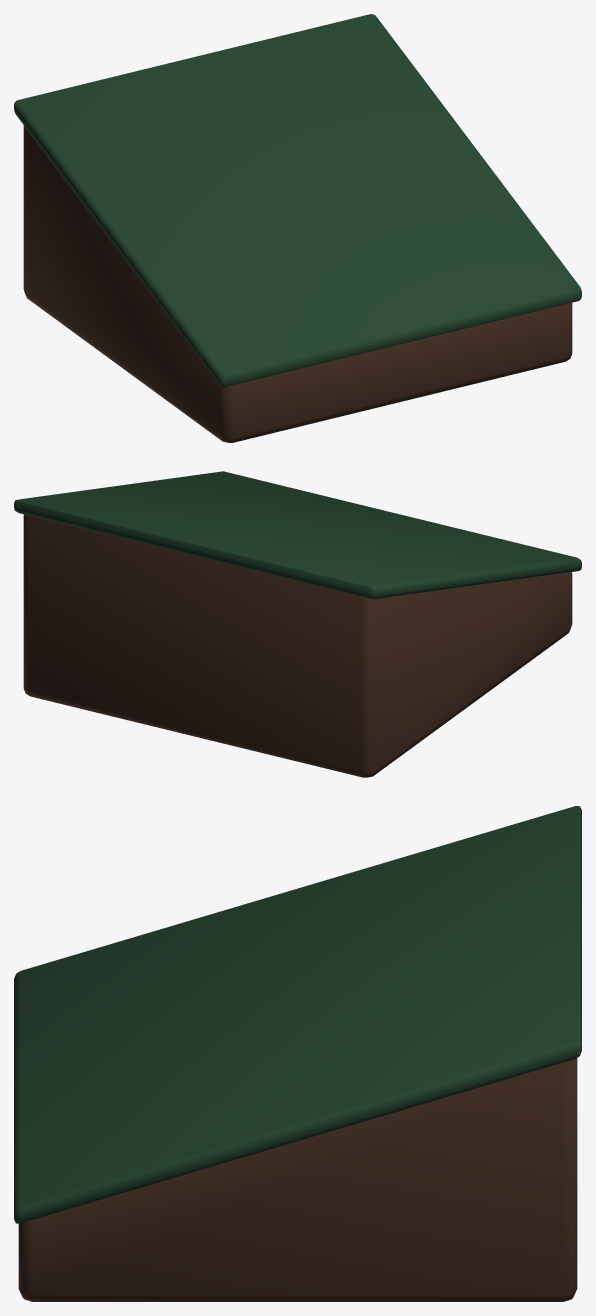
File: SueloRampa.fbx
The picture shows the model from 3 angles, top to bottom: view 1: azimuth 30°, elevation 25°; view 2: azimuth 150°, elevation 25°; view 3: azimuth 270°, elevation 25°; orthographic projection. The views are drawn at different scales.
Visible parts, largest first — view 1: SueloRampa_Pasto, SueloRampa_Tierra; view 2: SueloRampa_Tierra, SueloRampa_Pasto; view 3: SueloRampa_Pasto, SueloRampa_Tierra.
Boxes of the visible parts, bbox=[...] form: SueloRampa_Pasto: bbox=[14, 14, 581, 387]; SueloRampa_Tierra: bbox=[23, 125, 572, 442]; SueloRampa_Tierra: bbox=[23, 514, 572, 777]; SueloRampa_Pasto: bbox=[14, 471, 581, 599]; SueloRampa_Pasto: bbox=[14, 806, 581, 1223]; SueloRampa_Tierra: bbox=[18, 1058, 577, 1301].
Bounding box in the file's own units: 12.2 × 6.35 × 12.2.
